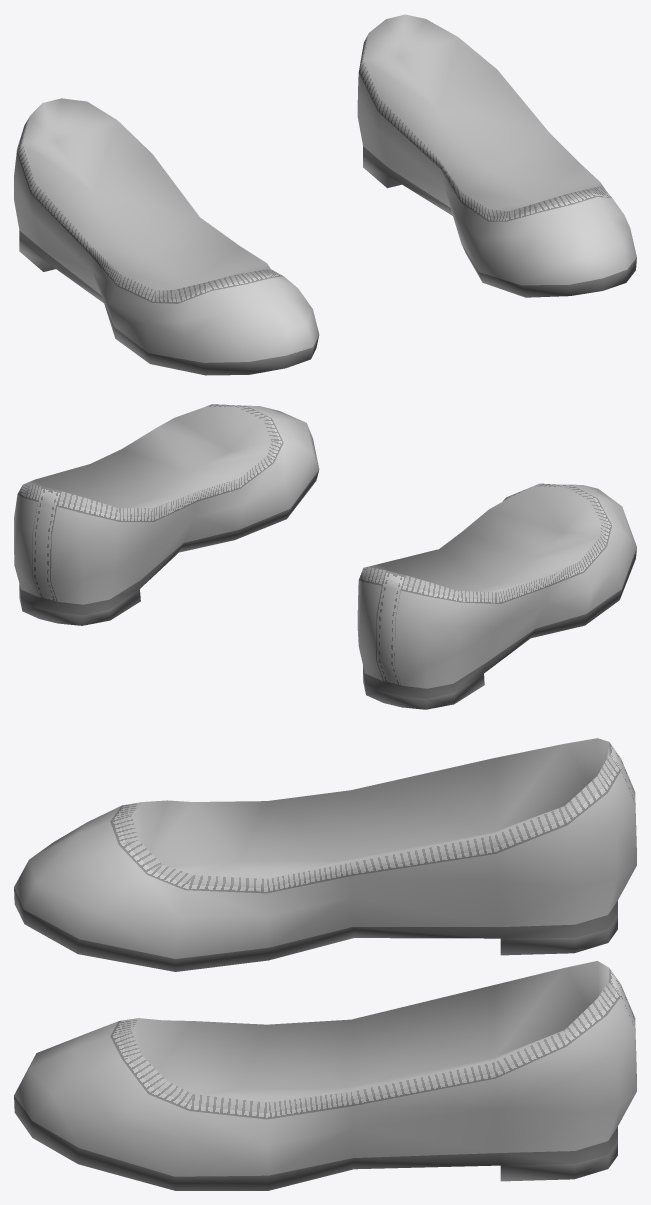
Rendered from female_shoes1.glb.
3 renders of one model, top to bottom at view 1: azimuth 30°, elevation 25°; view 2: azimuth 150°, elevation 25°; view 3: azimuth 270°, elevation 25°, orthographic. The views are drawn at different scales.
Visible parts, largest first — view 1: node_id195; view 2: node_id195; view 3: node_id195.
Boxes of the visible parts, x1,y1,x2,y2 form: node_id195: (14, 14, 636, 375); node_id195: (14, 404, 636, 709); node_id195: (14, 738, 636, 1190).
Size of the model in its own units: 0.512 by 0.1317 by 0.4243.
Materials: 1 (1 with a texture image).
